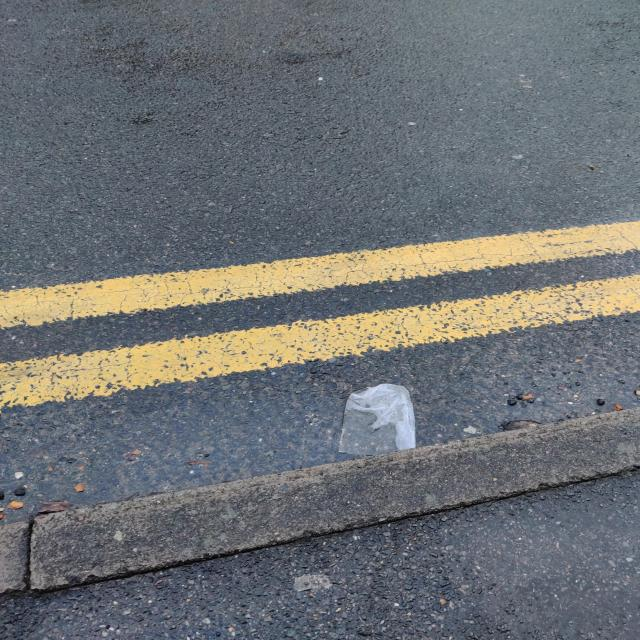litter: (330, 381, 420, 462)
